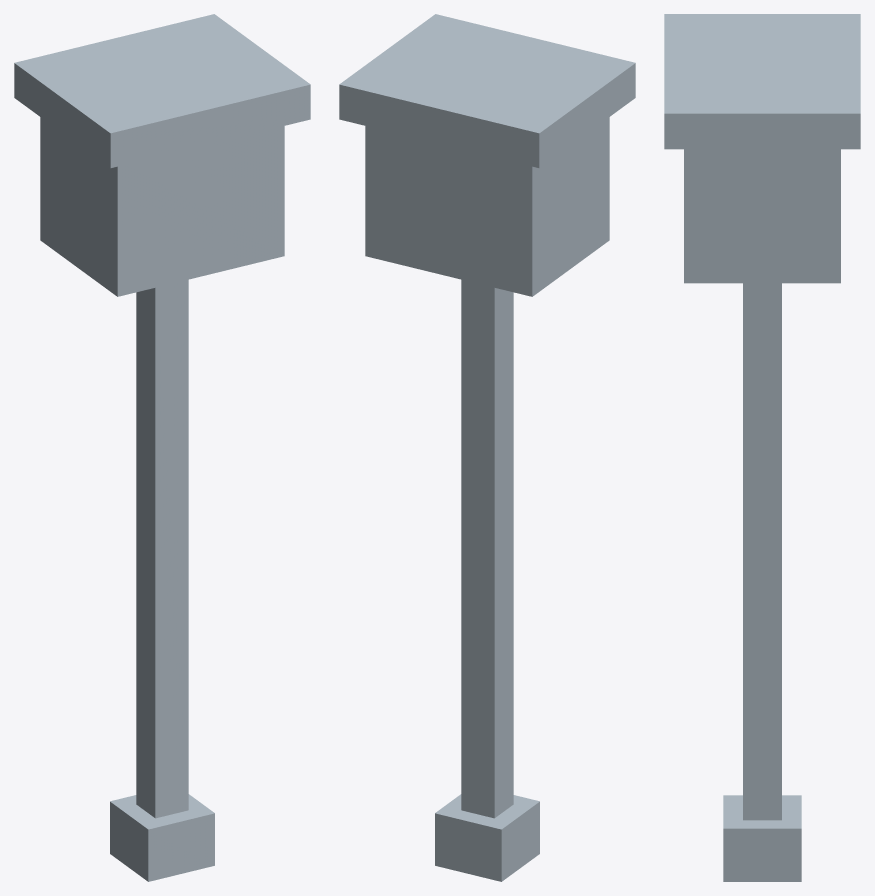
File: shadow-lantern.glb
3 views of the same model, side by side, from view 1: azimuth 30°, elevation 25°; view 2: azimuth 150°, elevation 25°; view 3: azimuth 270°, elevation 25° (orthographic).
Size of the model in its own units: 24 by 90 by 20.
